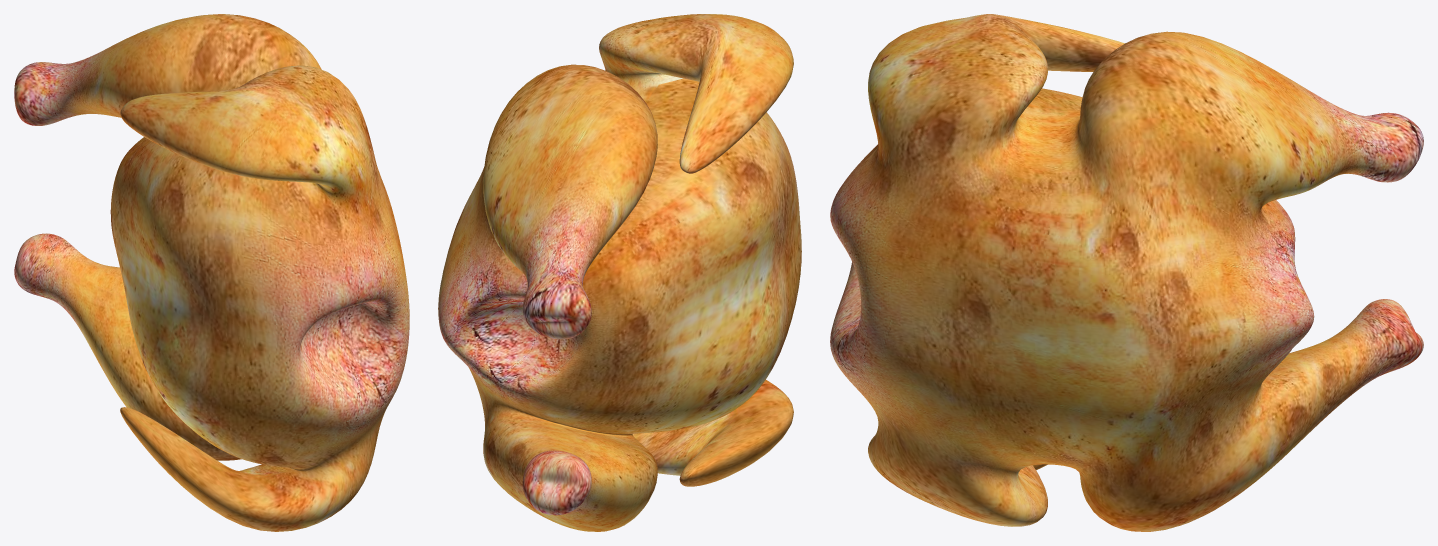
The model's file is Chicken.gltf.
The picture shows the model from 3 angles, left to right: view 1: azimuth 30°, elevation 25°; view 2: azimuth 150°, elevation 25°; view 3: azimuth 270°, elevation 25°; orthographic projection. The views are drawn at different scales.
Visible parts, largest first — view 1: 10864_rotisserie_chicken_v2_L3; view 2: 10864_rotisserie_chicken_v2_L3; view 3: 10864_rotisserie_chicken_v2_L3.
Boxes of the visible parts, box(x1,y1,x2,y2) form: 10864_rotisserie_chicken_v2_L3: box(14, 14, 409, 531); 10864_rotisserie_chicken_v2_L3: box(438, 14, 801, 531); 10864_rotisserie_chicken_v2_L3: box(830, 14, 1423, 531).
Size of the model in its own units: 166 by 288 by 321.
1 material, 1 textured.
